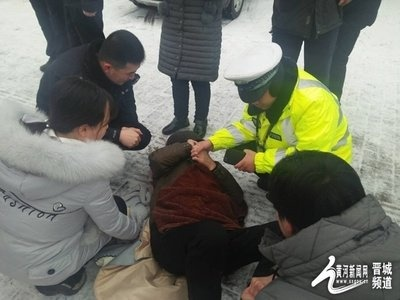falling: (137, 119, 267, 300)
